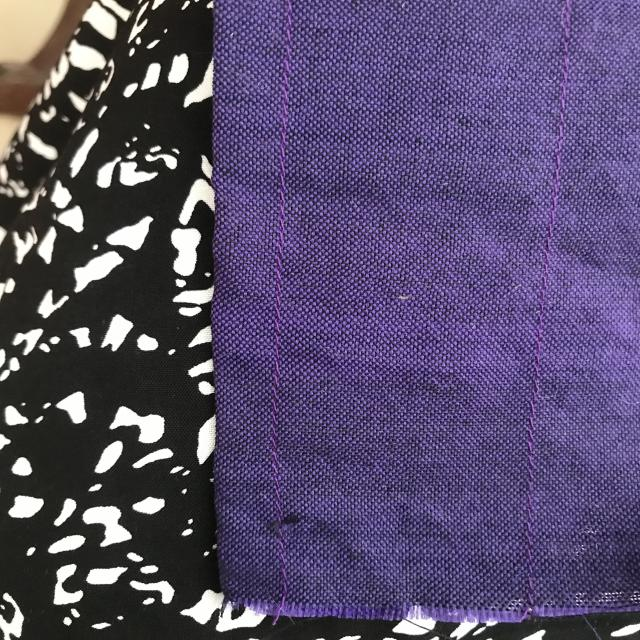good: (514, 316, 556, 498), (544, 122, 581, 265), (268, 237, 285, 450)
